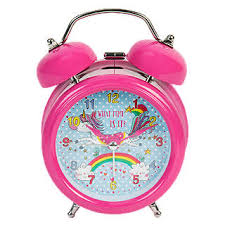alarm_clock: (35, 4, 189, 217)
